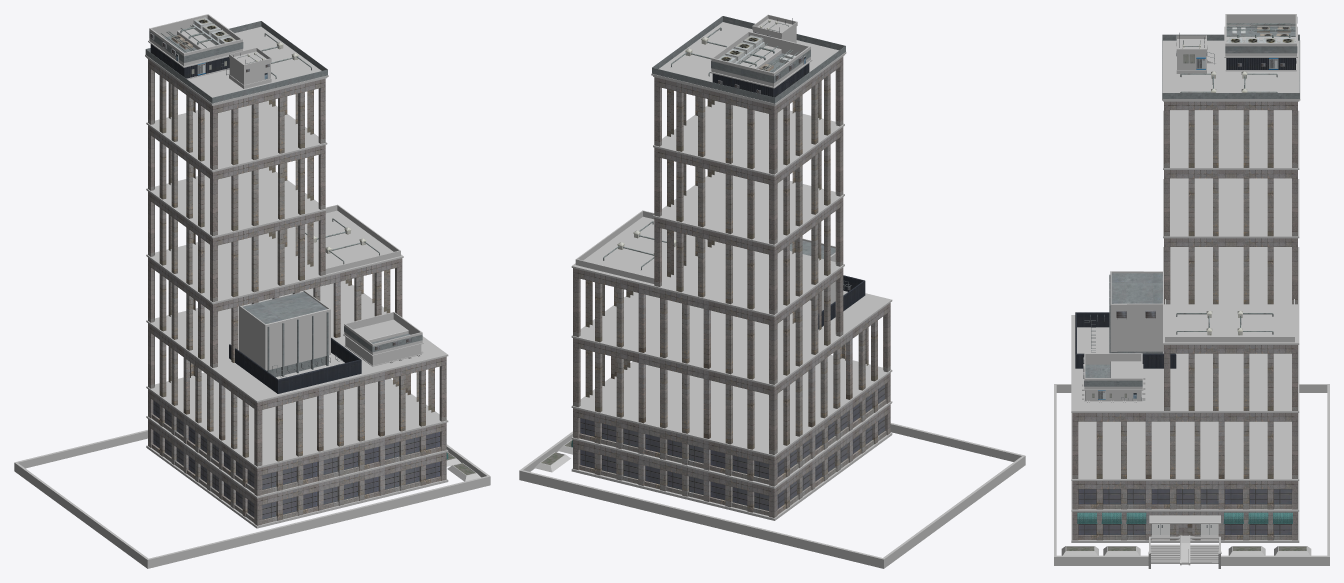
The model's file is u2WBuild2.gltf.
3 renders of one model, left to right at view 1: azimuth 30°, elevation 25°; view 2: azimuth 150°, elevation 25°; view 3: azimuth 270°, elevation 25°, orthographic. The views are drawn at different scales.
Visible parts, largest first — view 1: u2WBuild2; view 2: u2WBuild2; view 3: u2WBuild2.
Boxes of the visible parts, <box> form: u2WBuild2: <box>14,14,490,568</box>; u2WBuild2: <box>519,14,1025,568</box>; u2WBuild2: <box>1054,14,1329,568</box>.
Size of the model in its own units: 24.5 by 29.21 by 16.47.
